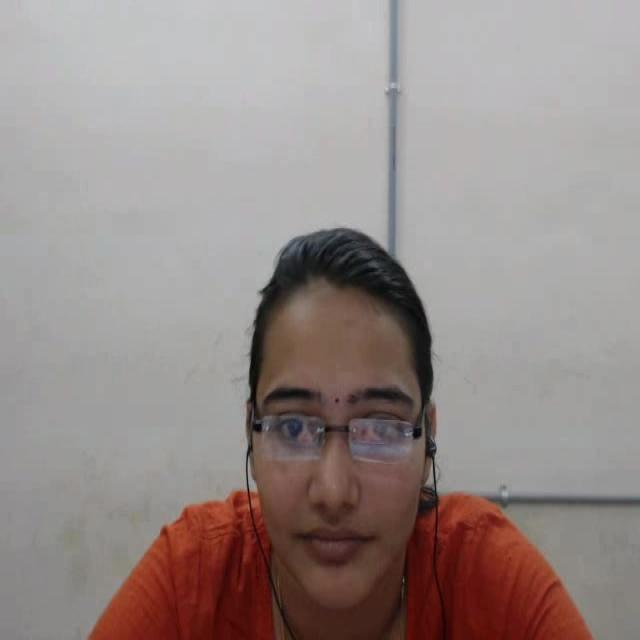Engaged: (182, 199, 471, 640)
